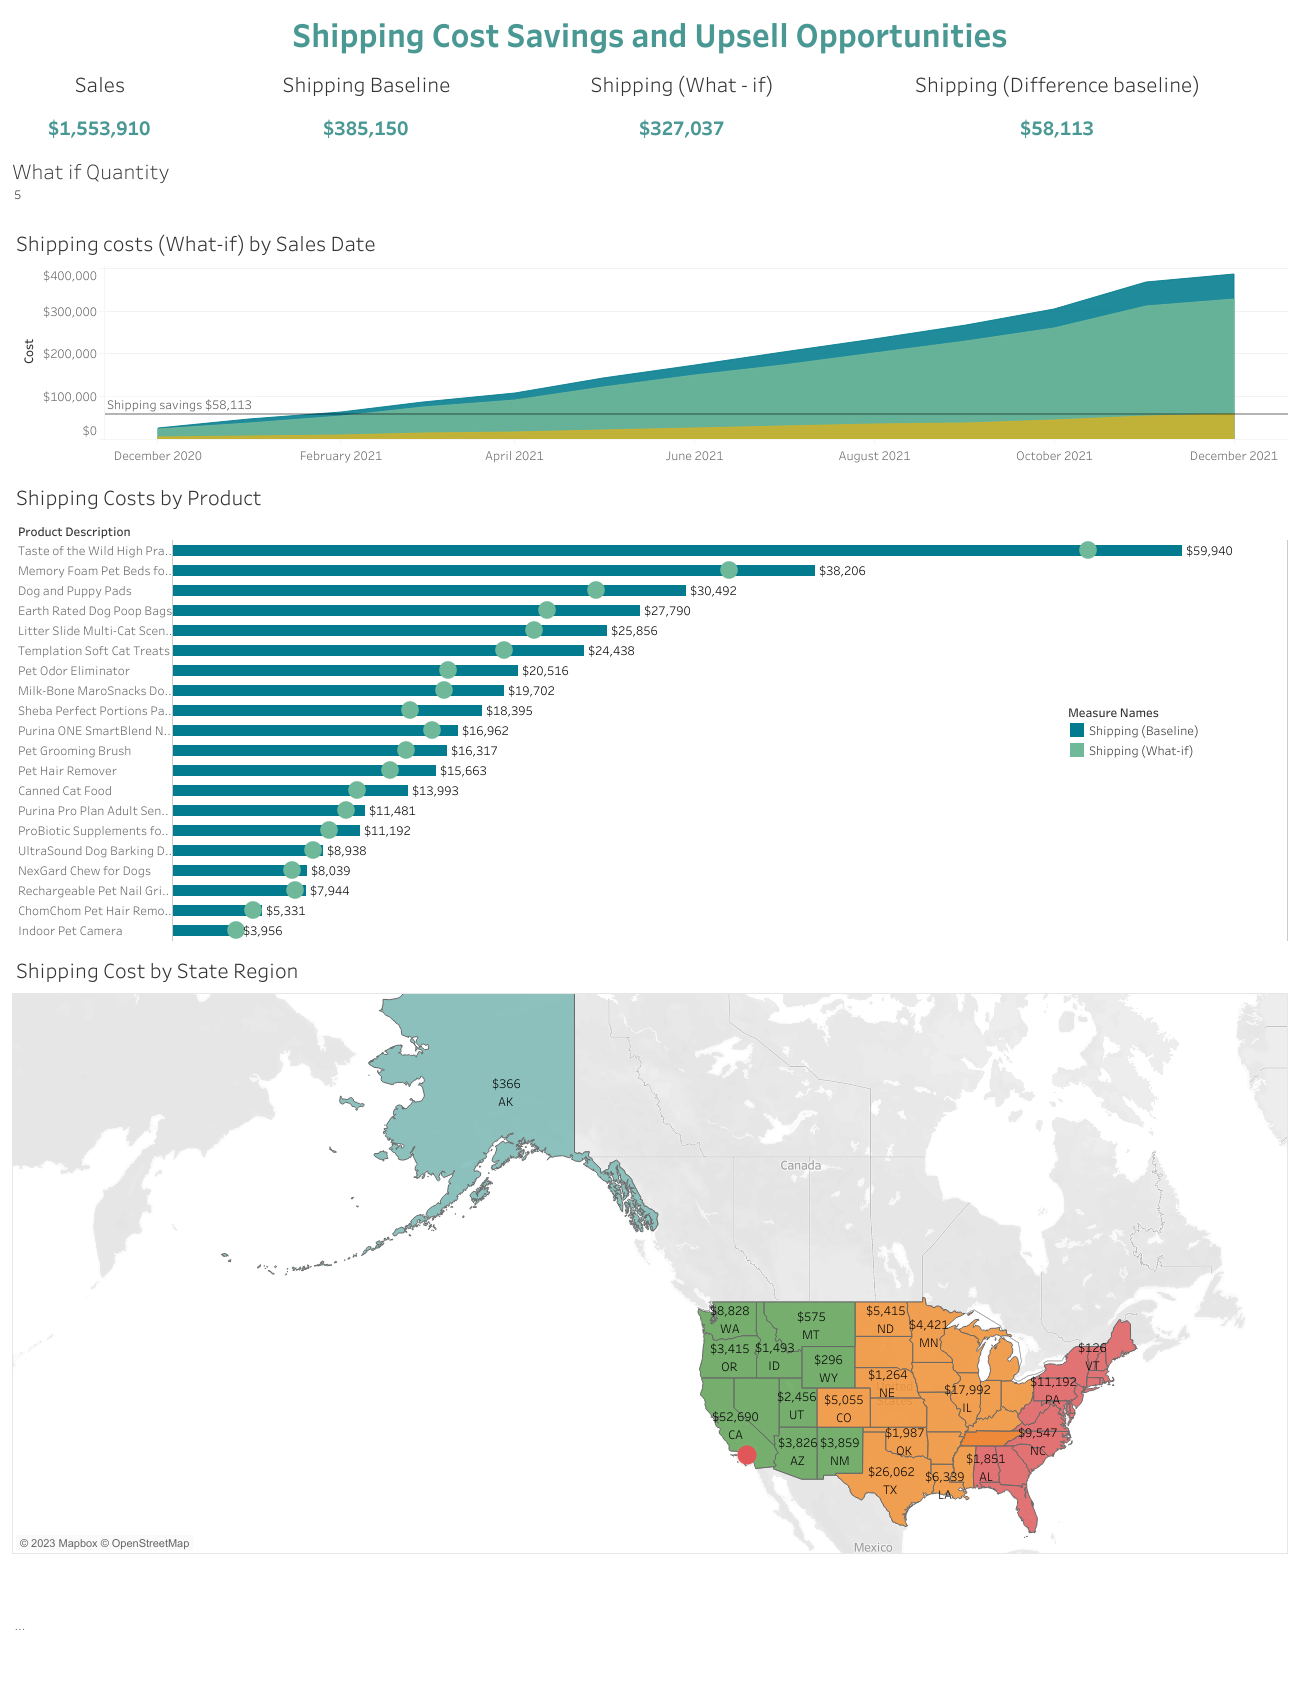

Layout of this report page (visuals, bound fields, positions):
{"tool":"tableau","page":{"name":"Shipping Costs","canvas":[1300,1700],"ordinal":3},"visuals":[{"type":"title","box":[8,8,1284,52]},{"type":"worksheet","title":"BAN-Sales","mark":"Automatic","box":[8,60,183.9,91.7]},{"type":"worksheet","title":"BAN-Shipping Baseline","mark":"Automatic","box":[191.9,60,349.4,91.7]},{"type":"worksheet","title":"BAN-Shipping (What-if)","mark":"Automatic","box":[541.3,60,281.7,91.7]},{"type":"worksheet","title":"BAN-Shipping (Difference Baseline)","mark":"Automatic","box":[823,60,469,91.7]},{"type":"parameter","param":"[Parameters].[Parameter 1]","box":[8,151.7,1284,66.8]},{"type":"worksheet","title":"Shipping What-if","mark":"Area","cols":["Transaction Date"],"box":[8,218.5,1284,254]},{"type":"worksheet","title":"Shipping Costs by Product","mark":"Automatic","rows":["Stock Code","Description (dim_products.csv)"],"cols":["Calculation_2047167555218206763","Shipping (Baseline) (copy)_2047167555222364205"],"box":[8,472.5,1284,473.5]},{"type":"legend","title":"Shipping Costs by Product","param":"[federated.0doywg70fvcxgm106bhk60btwtax].[:Measure Names]","box":[1067,701,152,59]},{"type":"worksheet","title":"Shipping Cost by State Region","mark":"Multipolygon","box":[8,946,1284,612]},{"type":"text","box":[8,1558,1284,134]}]}

Visuals, with their boxes in screenshot pixels (x1, y1, x2, y2), scaled from the page's 1300x1700 canvas onto the 1299x1699 screenshot:
title: locate(8, 8, 1291, 60)
"BAN-Sales" worksheet: locate(8, 60, 192, 152)
"BAN-Shipping Baseline" worksheet: locate(192, 60, 541, 152)
"BAN-Shipping (What-if)" worksheet: locate(541, 60, 822, 152)
"BAN-Shipping (Difference Baseline)" worksheet: locate(822, 60, 1291, 152)
parameter: locate(8, 152, 1291, 218)
"Shipping What-if" worksheet (Area marks): locate(8, 218, 1291, 472)
"Shipping Costs by Product" worksheet: locate(8, 472, 1291, 945)
"Shipping Costs by Product" legend: locate(1066, 701, 1218, 760)
"Shipping Cost by State Region" worksheet (Multipolygon marks): locate(8, 945, 1291, 1557)
text: locate(8, 1557, 1291, 1691)
